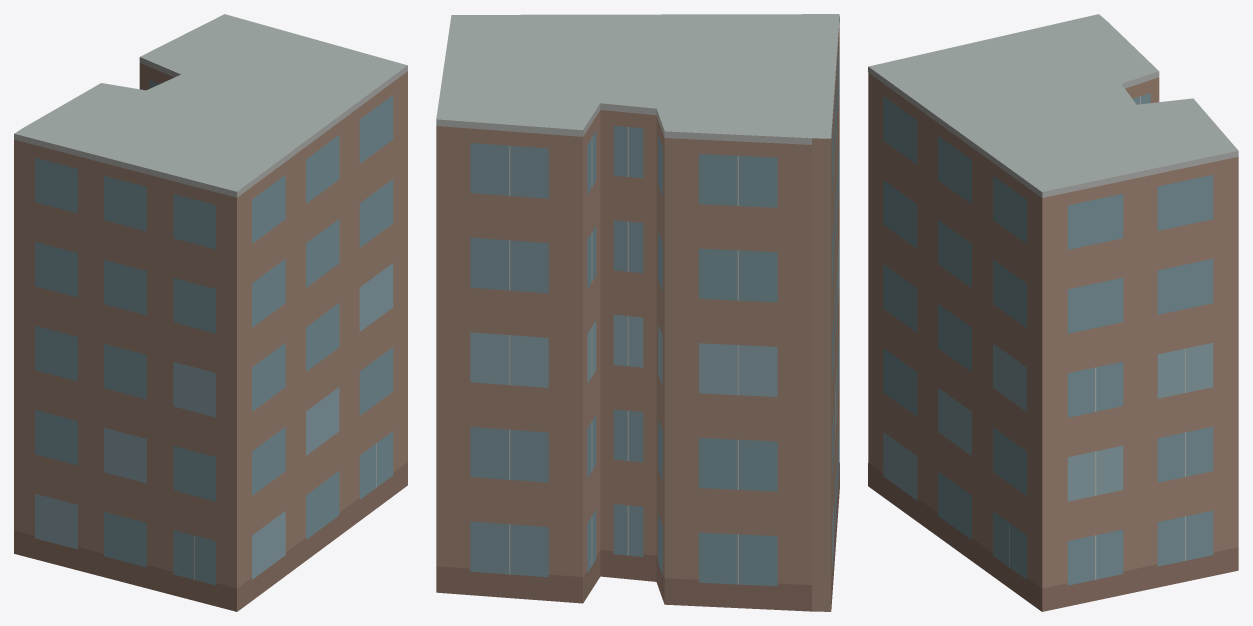
The model's file is survey-upis-33020606.glb.
3 renders of one model, left to right at view 1: azimuth 30°, elevation 25°; view 2: azimuth 150°, elevation 25°; view 3: azimuth 270°, elevation 25°, orthographic. The views are drawn at different scales.
Parts seen in each view (by area): view 1: survey-upis-33020606.tmp; view 2: survey-upis-33020606.tmp; view 3: survey-upis-33020606.tmp.
Part boxes in pixels (bbox=[...]): survey-upis-33020606.tmp: bbox=[14, 14, 407, 611]; survey-upis-33020606.tmp: bbox=[436, 14, 839, 611]; survey-upis-33020606.tmp: bbox=[868, 14, 1238, 611].
Size of the model in its own units: 15.9 by 17.45 by 13.97.
